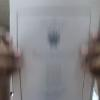notebook: (8, 0, 99, 99)
